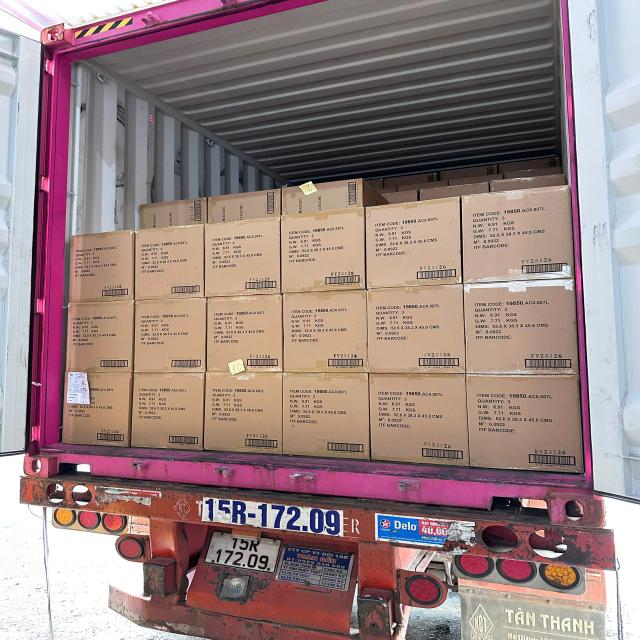Carton: (466, 372, 584, 472), (465, 282, 582, 376), (463, 189, 576, 286), (371, 375, 470, 467), (364, 198, 460, 288), (365, 290, 463, 376), (281, 374, 368, 457), (282, 294, 367, 375), (280, 215, 364, 295), (205, 375, 283, 456), (206, 294, 282, 372), (204, 222, 280, 300), (131, 371, 204, 449), (134, 300, 207, 374), (62, 374, 129, 451), (134, 229, 204, 302), (66, 233, 133, 306), (66, 303, 132, 375)
